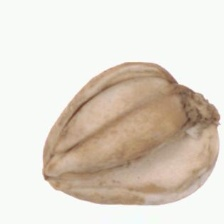L1: (169, 71, 219, 129), (38, 145, 64, 192)
L2: (42, 61, 219, 206)
